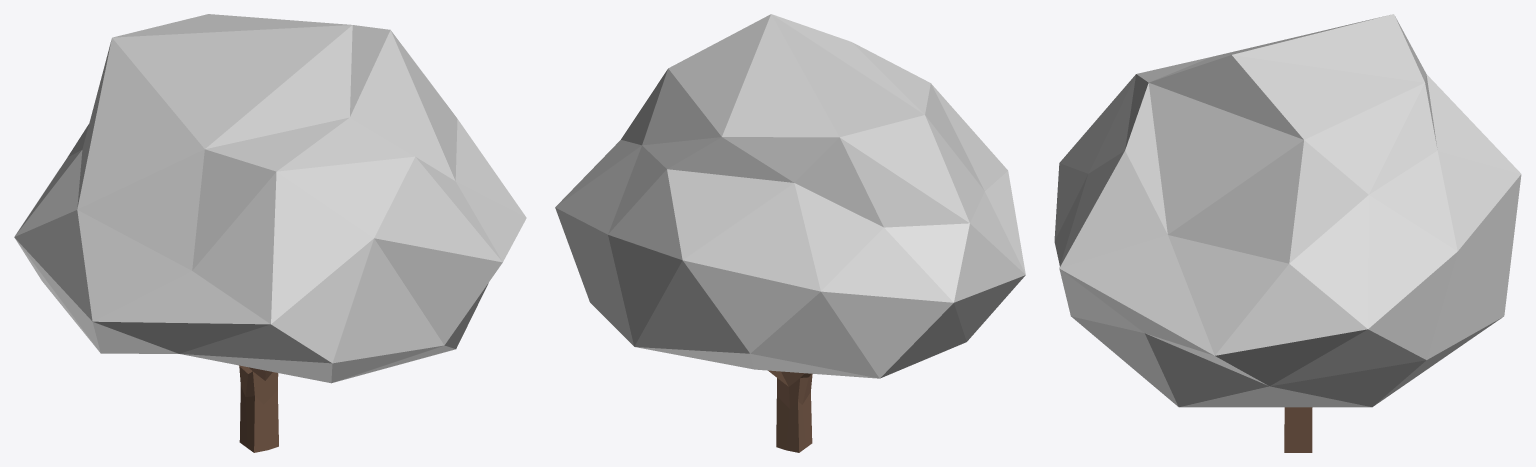
The model's file is Tree_8_White.fbx.
3 views of the same model, side by side, from view 1: azimuth 30°, elevation 25°; view 2: azimuth 150°, elevation 25°; view 3: azimuth 270°, elevation 25° (orthographic). The views are drawn at different scales.
Visible parts, largest first — view 1: Tree_8_White_Part_1, Tree_8_White_Part_2; view 2: Tree_8_White_Part_1, Tree_8_White_Part_2; view 3: Tree_8_White_Part_1, Tree_8_White_Part_2.
Part boxes in pixels (left/top/right/bottom): Tree_8_White_Part_1: left=14, top=14, right=526, bottom=383; Tree_8_White_Part_2: left=239, top=365, right=278, bottom=452; Tree_8_White_Part_1: left=555, top=14, right=1025, bottom=378; Tree_8_White_Part_2: left=768, top=370, right=812, bottom=452; Tree_8_White_Part_1: left=1054, top=14, right=1521, bottom=407; Tree_8_White_Part_2: left=1284, top=407, right=1312, bottom=452.
Size of the model in its own units: 804 by 762 by 766.
